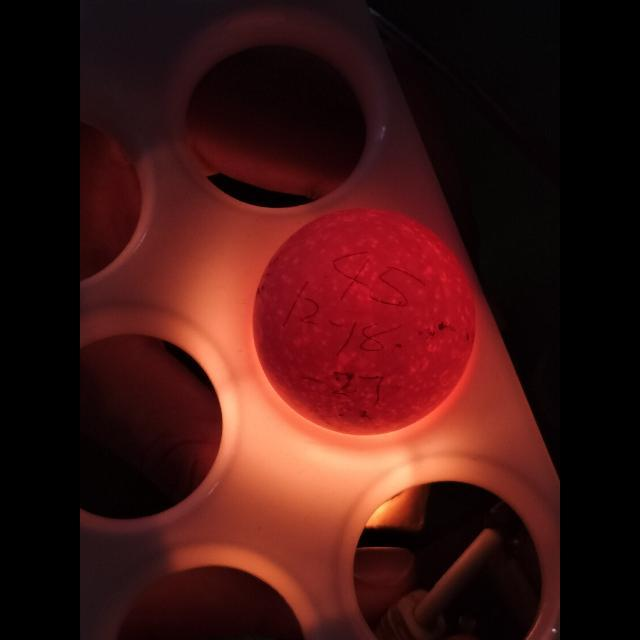Infertile: (252, 200, 476, 434)
